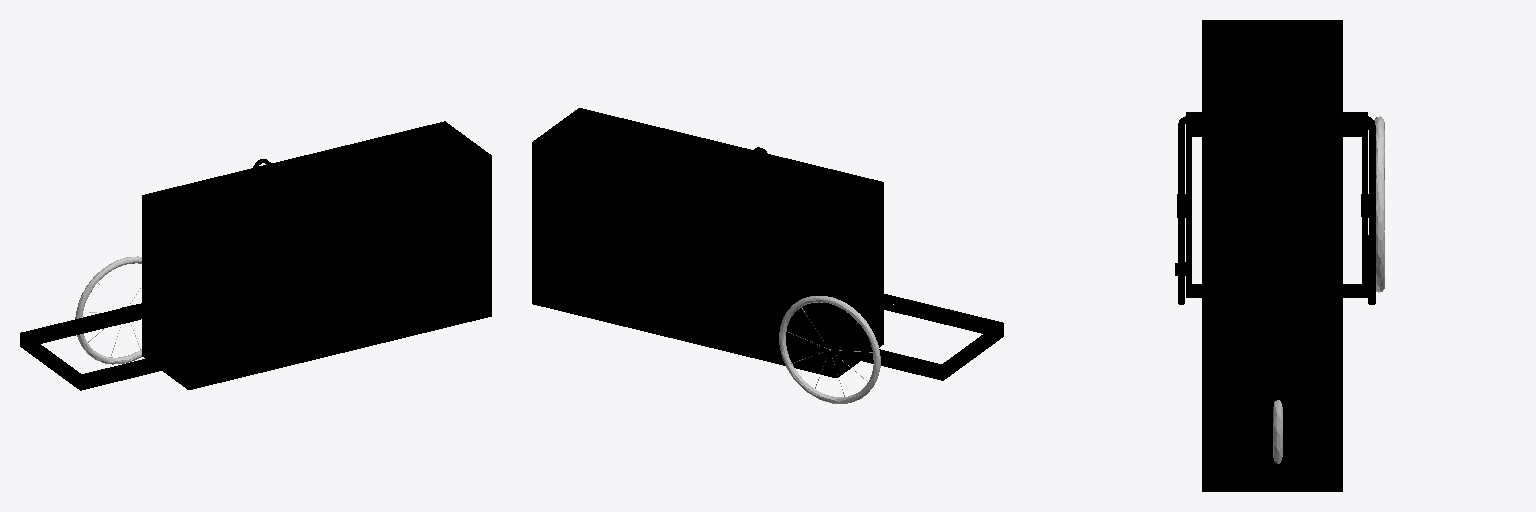
URDF robot description (rickshaw):
<robot name="rickshaw">
  <material name="grey">
    <color rgba="0.8 0.8 0.8 1"/>
  </material>
  <material name="white">
    <color rgba="1 1 1 1 "/>
  </material>
  <material name="black">
    <color rgba="0 0 0 1 "/>
  </material>

  <!-- Base link -->
  <link name="base_link">
    <inertial>
      <mass value="21.81948036288467"/>
      <origin rpy="0 0 0" xyz="-0.83471  0.03437  0.037"/>
      <inertia ixx="10.27568843951201" ixy="-0.013973690995530063"
               ixz="-0.24730354425384926" iyy="13.85328568075199"
               iyz="-3.7960118868960127" izz="4.2009117489265355"/>
    </inertial>
    <collision name="bike_collision">
      <origin rpy="0 0 0" xyz="-0.83471  0.03437  0.037"/>
      <geometry>
        <mesh
            filename="package://roboy_models/rickshaw/meshes/collisions/bike.stl"
            scale="0.001 0.001 0.001"/>
      </geometry>
    </collision>
    <visual name="bike_visual">
      <origin rpy="0 0 0" xyz="-0.83471  0.03437  0.037"/>
      <geometry>
        <mesh filename="package://roboy_models/rickshaw/meshes/visuals/bike.stl"
              scale="0.001 0.001 0.001"/>
      </geometry>
      <material name="black"/>
    </visual>
  </link>

  <link name="left_wheel">
    <inertial>
      <mass value="13.340163929097852"/>
      <origin rpy="0 0 0" xyz="0    -0.046  0"/>
      <inertia ixx="2.6886582542943342" ixy="-3.73354366648907"
               ixz="1.0631600153408745" iyy="12.355706573664577"
               iyz="2.986802675143825" izz="12.327019793799982"/>
    </inertial>
    <collision name="left_wheel_collision">
      <origin rpy="0 0 0" xyz="0    -0.046  0"/>
      <geometry>
        <mesh
            filename="package://roboy_models/rickshaw/meshes/visuals/left_wheel.stl"
            scale="0.001 0.001 0.001"/>
      </geometry>
    </collision>
    <visual name="left_wheel_visual">
      <origin rpy="0 0 0" xyz="0 -0.046  0"/>
      <geometry>
        <mesh
            filename="package://roboy_models/rickshaw/meshes/visuals/left_wheel.stl"
            scale="0.001 0.001 0.001"/>
      </geometry>
      <material name="grey"/>
    </visual>
  </link>
  <joint name="joint_wheel_left" type="continuous">
    <parent link="front_part"/>
    <child link="left_wheel"/>
    <origin rpy="0 0 0" xyz="-0.052  -0.304   0.0345"/>
    <axis xyz="0 -1  0"/>
    <limit effort="1000.0" velocity="10.0"/>
  </joint>
  <transmission name="trans_wheel_left">
    <type>transmission_interface/SimpleTransmission</type>
    <actuator name="$left_wheel_motor">
      <mechanicalReduction>1</mechanicalReduction>
    </actuator>
    <joint name="joint_wheel_left">
      <hardwareInterface>hardware_interface/VelocityJointInterface
      </hardwareInterface>
    </joint>
  </transmission>
  <gazebo reference="left_wheel">
    <mu1 value="20.0"/>
    <mu2 value="10.0"/>
    <kp value="10000000.0"/>
    <kd value="1.0"/>
    <material>Gazebo/Grey</material>
  </gazebo>

  <link name="right_wheel">
    <inertial>
      <mass value="13.340163929097853"/>
      <origin rpy="0 0 0" xyz="0    0.004 0"/>
      <inertia ixx="3.24940928013889" ixy="4.452078024336449"
               ixz="-1.2677691125288901" iyy="12.355706573664742"
               iyz="2.98680267514417" izz="12.887770819644302"/>
    </inertial>
    <collision name="right_wheel_collision">
      <origin rpy="0 0 0" xyz="0    0.004 0"/>
      <geometry>
        <mesh
            filename="package://roboy_models/rickshaw/meshes/visuals/right_wheel.stl"
            scale="0.001 0.001 0.001"/>
      </geometry>
    </collision>
    <visual name="right_wheel_visual">
      <origin rpy="0 0 0" xyz="0    0.004 0"/>
      <geometry>
        <mesh
            filename="package://roboy_models/rickshaw/meshes/visuals/right_wheel.stl"
            scale="0.001 0.001 0.001"/>
      </geometry>
      <material name="grey"/>
    </visual>
  </link>
  <joint name="joint_wheel_right" type="continuous">
    <parent link="front_part"/>
    <child link="right_wheel"/>
    <origin rpy="0 0 0" xyz="-0.052   0.338   0.0345"/>
    <axis xyz="0 1 0"/>
    <limit effort="1000.0" velocity="10.0"/>
  </joint>
  <transmission name="trans_wheel_right">
    <type>transmission_interface/SimpleTransmission</type>
    <actuator name="$right_wheel_motor">
      <mechanicalReduction>1</mechanicalReduction>
    </actuator>
    <joint name="joint_wheel_right">
      <hardwareInterface>hardware_interface/VelocityJointInterface
      </hardwareInterface>
    </joint>
  </transmission>
  <gazebo reference="right_wheel">
    <mu1 value="20.0"/>
    <mu2 value="10.0"/>
    <kp value="10000000.0"/>
    <kd value="1.0"/>
    <material>Gazebo/Grey</material>
  </gazebo>

  <link name="front_part">
    <inertial>
      <mass value="16.81067246555305"/>
      <origin rpy="0 0 0" xyz="0.23003 0.01038 0.20527"/>
      <inertia ixx="5.465362927092518" ixy="0.5110207238615475"
               ixz="-0.28741684892541264" iyy="14.406342111944207"
               iyz="2.937985200324096" izz="11.463900381107678"/>
    </inertial>
    <collision name="front_part_collision">
      <origin rpy="0 0 0" xyz="0.23003 0.01038 0.20527"/>
      <geometry>
        <mesh
            filename="package://roboy_models/rickshaw/meshes/collisions/front_part.stl"
            scale="0.001 0.001 0.001"/>
      </geometry>
    </collision>
    <visual name="front_part_visual">
      <origin rpy="0 0 0" xyz="0.23003 0.01038 0.20527"/>
      <geometry>
        <mesh
            filename="package://roboy_models/rickshaw/meshes/visuals/front_part.stl"
            scale="0.001 0.001 0.001"/>
      </geometry>
      <material name="black"/>
    </visual>
  </link>
  <joint name="joint_front" type="revolute">
    <parent link="base_link"/>
    <child link="front_part"/>
    <origin rpy="0 0 0" xyz="-0.83471  0.03437  0.218"/>
    <axis xyz="0 0 1"/>
    <limit effort="1000" lower="-0.523598775598" upper="0.523598775598"
           velocity=".5"/>
  </joint>
  <transmission name="trans_front">
    <type>transmission_interface/SimpleTransmission</type>
    <actuator name="$front_motor">
      <mechanicalReduction>1</mechanicalReduction>
    </actuator>
    <joint name="joint_front">
      <hardwareInterface>hardware_interface/VelocityJointInterface
      </hardwareInterface>
    </joint>
  </transmission>

  <link name="wheel_back">
    <inertial>
      <mass value="13.340163929098479"/>
      <origin rpy="0 0 0" xyz="0    0.069 0"/>
      <inertia ixx="1.40432084227607" ixy="-0.32812134268378185"
               ixz="-0.12963248650394468" iyy="7.5043811804219125"
               iyz="-2.2172043078944745" izz="6.140471373352849"/>
    </inertial>
    <collision name="wheel_back_collision">
      <origin rpy="0 0 0" xyz="0    0.069 0"/>
      <geometry>
        <mesh
            filename="package://roboy_models/rickshaw/meshes/visuals/wheel_back.stl"
            scale="0.001 0.001 0.001"/>
      </geometry>
    </collision>
    <visual name="wheel_back_visual">
      <origin rpy="0 0 0" xyz="0    0.069 0"/>
      <geometry>
        <mesh
            filename="package://roboy_models/rickshaw/meshes/visuals/wheel_back.stl"
            scale="0.001 0.001 0.001"/>
      </geometry>
      <material name="grey"/>
    </visual>
  </link>
  <joint name="joint_wheel_back" type="continuous">
    <parent link="base_link"/>
    <child link="wheel_back"/>
    <origin rpy="0 0 0" xyz="0.6486  -0.03107  0.25624"/>
    <axis xyz="0 -1  0"/>
    <limit effort="1000.0" velocity="10.0"/>
  </joint>
  <transmission name="trans_wheel_back">
    <type>transmission_interface/SimpleTransmission</type>
    <actuator name="back_wheel_motor">
      <mechanicalReduction>1</mechanicalReduction>
    </actuator>
    <joint name="joint_wheel_back">
      <hardwareInterface>hardware_interface/VelocityJointInterface
      </hardwareInterface>
    </joint>
  </transmission>
  <gazebo reference="wheel_back">
    <mu1 value="20.0"/>
    <mu2 value="10.0"/>
    <kp value="10000000.0"/>
    <kd value="1.0"/>
    <material>Gazebo/Grey</material>
  </gazebo>
  <gazebo>
    <plugin name="gazebo_ros_control" filename="libgazebo_ros_control.so">
      <robotNamespace>/</robotNamespace>
    </plugin>
  </gazebo>
</robot>

--- What the picture shows (computed from the rendered views, not written in the file) ---
The picture shows the robot from 3 angles, left to right: view 1: azimuth 30°, elevation 25°; view 2: azimuth 150°, elevation 25°; view 3: azimuth 270°, elevation 25°; orthographic projection.
Model rickshaw with 5 links and 4 joints (1 revolute, 3 continuous), rooted at base_link, posed all joints at 0.
Links seen in each view (by area): view 1: base_link, front_part, right_wheel; view 2: base_link, front_part, right_wheel; view 3: base_link, front_part, right_wheel, wheel_back.
Link boxes in pixels (bbox=[...]): base_link: bbox=[142, 121, 491, 389]; front_part: bbox=[20, 159, 322, 390]; right_wheel: bbox=[75, 256, 141, 364]; base_link: bbox=[532, 108, 883, 377]; front_part: bbox=[699, 147, 1003, 380]; right_wheel: bbox=[779, 296, 880, 403]; base_link: bbox=[1202, 20, 1342, 491]; front_part: bbox=[1175, 112, 1375, 304]; right_wheel: bbox=[1374, 116, 1384, 292]; wheel_back: bbox=[1273, 400, 1282, 463].
Size in the robot's own frame: 2.47 by 0.6989 by 0.9902 metres.
Meshes: 5 distinct files referenced, 4 mesh visuals loaded (4 binary STL); not drawn: 1 (reference not matched to a file when rendering).
